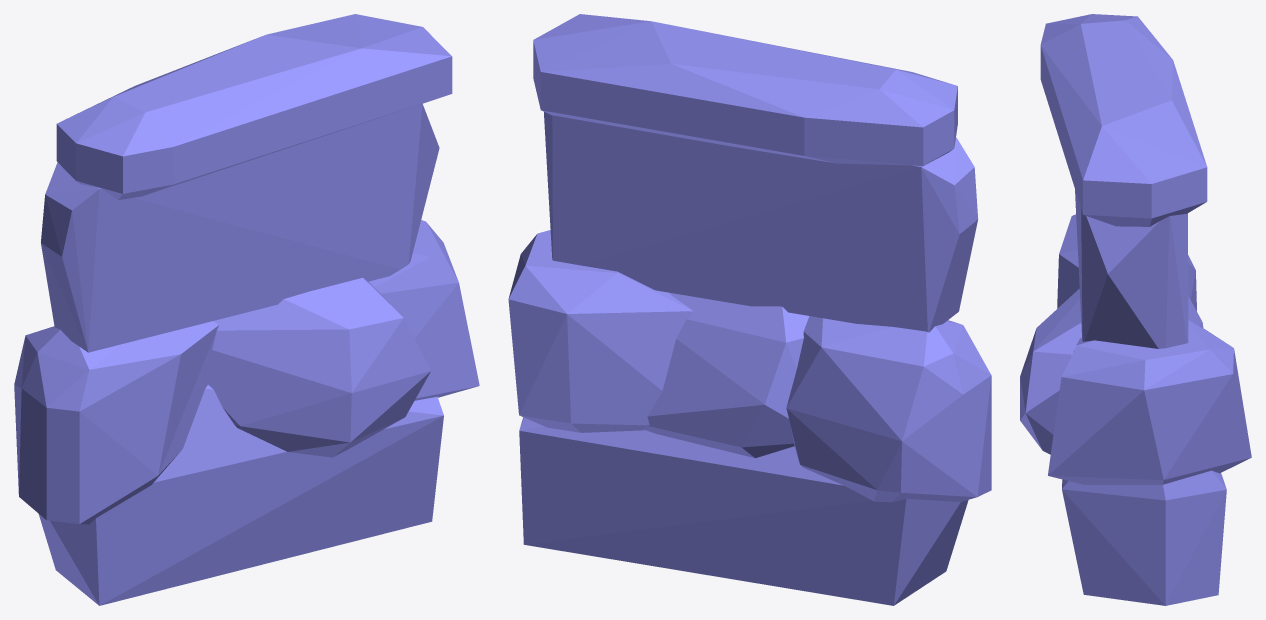
Rendered from Cliff_Fin_01_Collider_01.FBX.
3 renders of one model, left to right at view 1: azimuth 30°, elevation 25°; view 2: azimuth 150°, elevation 25°; view 3: azimuth 270°, elevation 25°, orthographic. The views are drawn at different scales.
Visible parts, largest first — view 1: COLLIDER2, COLLIDER3, COLLIDER1, COLLIDER5, COLLIDER6, COLLIDER4; view 2: COLLIDER2, COLLIDER3, COLLIDER1, COLLIDER5, COLLIDER4, COLLIDER6; view 3: COLLIDER1, COLLIDER4, COLLIDER3, COLLIDER2, COLLIDER6, COLLIDER5.
Part boxes in pixels (box(x1,y1,x2,y2)): COLLIDER2: box(41, 103, 439, 352); COLLIDER3: box(38, 385, 443, 605); COLLIDER1: box(56, 14, 452, 200); COLLIDER5: box(14, 321, 218, 524); COLLIDER6: box(208, 277, 430, 457); COLLIDER4: box(369, 220, 479, 400); COLLIDER2: box(544, 112, 978, 332); COLLIDER3: box(519, 417, 968, 605); COLLIDER1: box(533, 14, 957, 166); COLLIDER5: box(786, 316, 991, 502); COLLIDER4: box(508, 230, 693, 432); COLLIDER6: box(644, 292, 809, 458); COLLIDER1: box(1040, 14, 1207, 226); COLLIDER4: box(1048, 318, 1251, 484); COLLIDER3: box(1062, 470, 1226, 605); COLLIDER2: box(1075, 189, 1188, 348); COLLIDER6: box(1020, 289, 1203, 454); COLLIDER5: box(1057, 214, 1196, 310).
Size of the model in its own units: 444 by 468 by 223.
